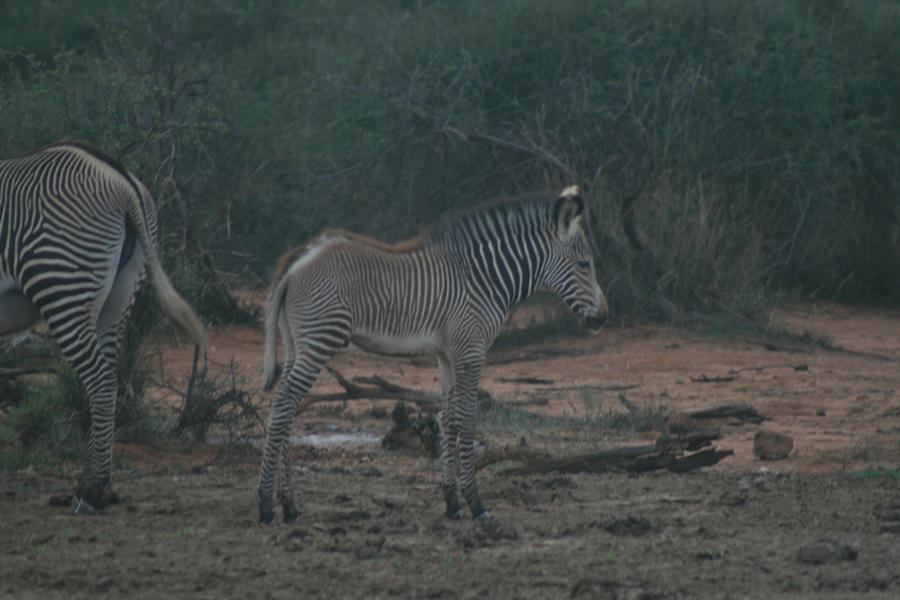zebra_grevys: (279, 219, 493, 360)
